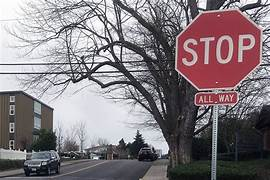stop: (175, 8, 262, 91)
